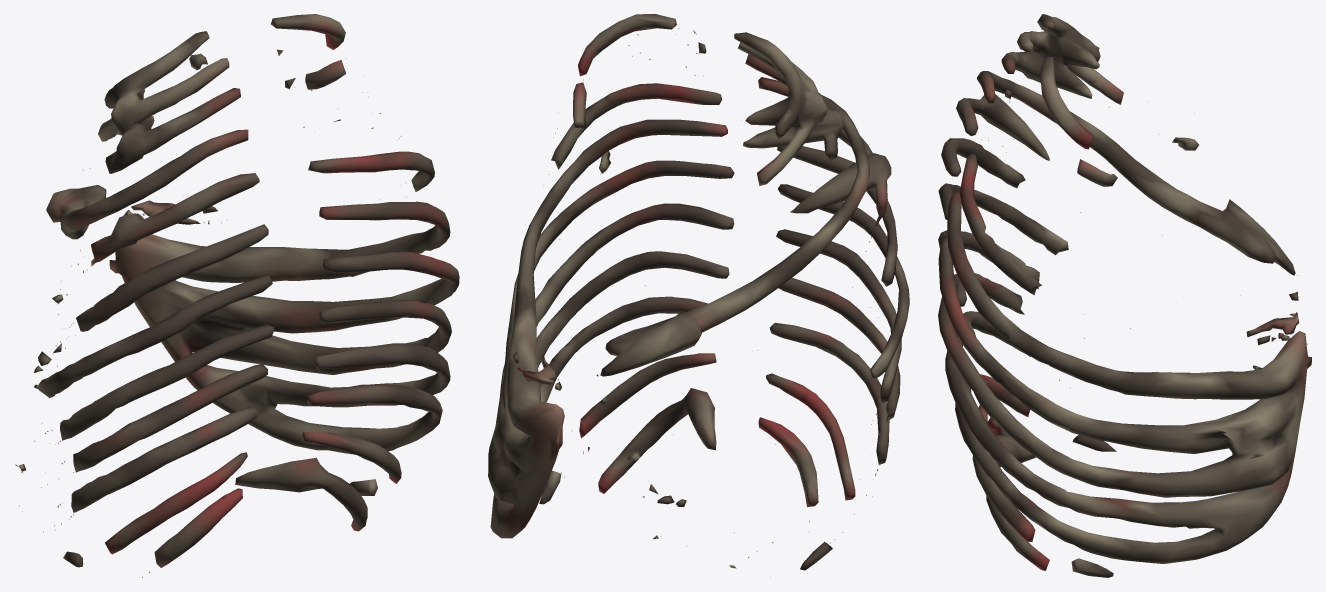
The model's file is anima_mouth_ribs_broken.glb.
3 renders of one model, left to right at view 1: azimuth 30°, elevation 25°; view 2: azimuth 150°, elevation 25°; view 3: azimuth 270°, elevation 25°, orthographic. The views are drawn at different scales.
Parts seen in each view (by area): view 1: RibsRight, RibsLeft; view 2: RibsRight, RibsLeft; view 3: RibsRight, RibsLeft.
Boxes of the visible parts, x1,y1,x2,y2 form: RibsRight: (107, 14, 459, 531); RibsLeft: (15, 31, 274, 577); RibsRight: (488, 14, 734, 538); RibsLeft: (583, 32, 909, 577); RibsRight: (938, 57, 1311, 577); RibsLeft: (938, 14, 1307, 451).
Bounding box in the file's own units: 0.7611 × 0.9764 × 0.6851.
